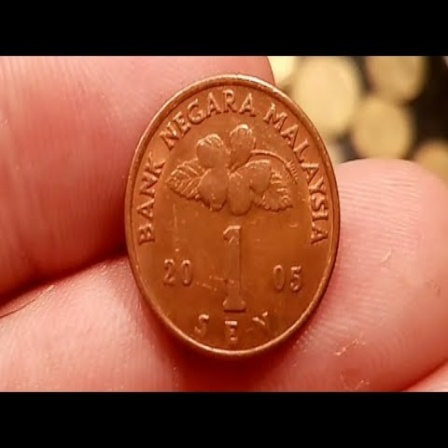1c: (123, 72, 343, 361)
